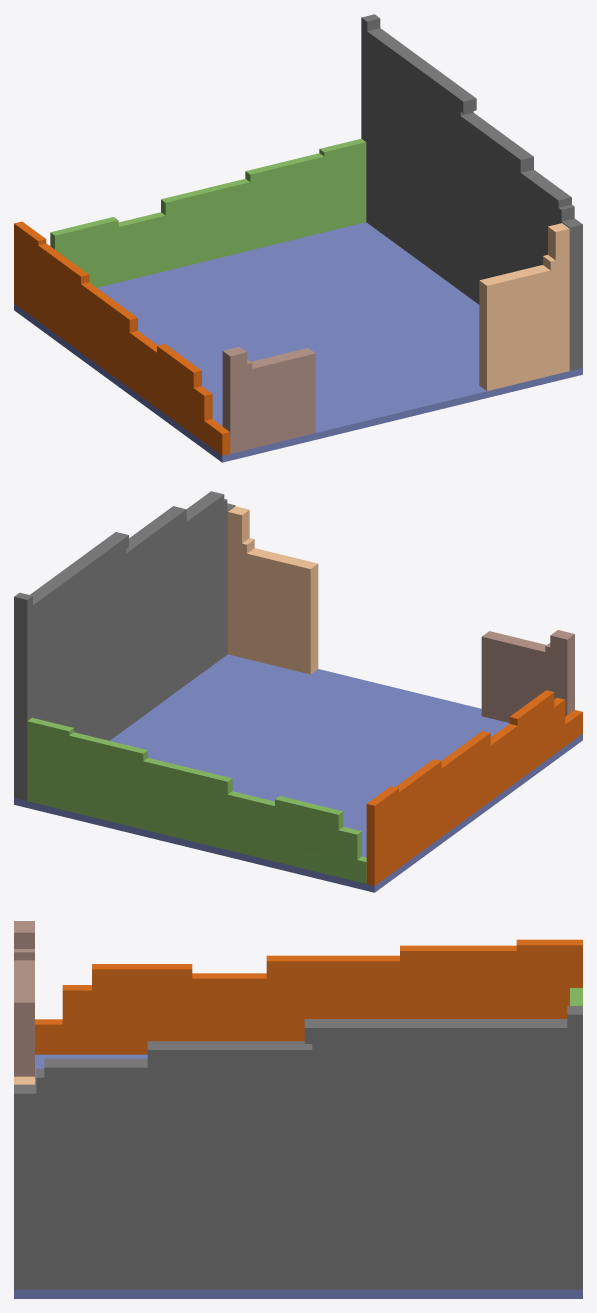
The model's file is Room_1.fbx.
3 renders of one model, top to bottom at view 1: azimuth 30°, elevation 25°; view 2: azimuth 150°, elevation 25°; view 3: azimuth 270°, elevation 25°, orthographic. The views are drawn at different scales.
Visible parts, largest first — view 1: Box026, Line065, Line080, Line079, Line066, Line078; view 2: Box026, Line065, Line080, Line079, Line066, Line078; view 3: Line065, Line079, Box026, Line078.
Boxes of the visible parts, x1,y1,x2,y2 form: Box026: [14, 222, 582, 462]; Line065: [361, 14, 582, 370]; Line080: [50, 138, 366, 287]; Line079: [14, 221, 230, 455]; Line066: [479, 223, 569, 391]; Line078: [222, 346, 315, 453]; Box026: [14, 654, 582, 892]; Line065: [14, 491, 235, 800]; Line080: [27, 717, 366, 883]; Line079: [366, 690, 582, 885]; Line066: [228, 506, 318, 674]; Line078: [481, 630, 574, 722]; Line065: [14, 1006, 582, 1289]; Line079: [35, 939, 582, 1054]; Box026: [14, 1054, 582, 1298]; Line078: [14, 921, 34, 1076].
Bounding box in the file's own units: 457 × 252 × 457.
